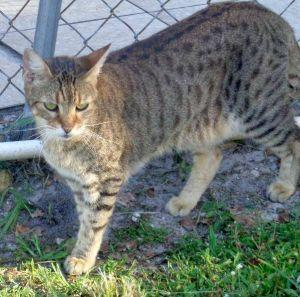bengal: (15, 39, 118, 149)
